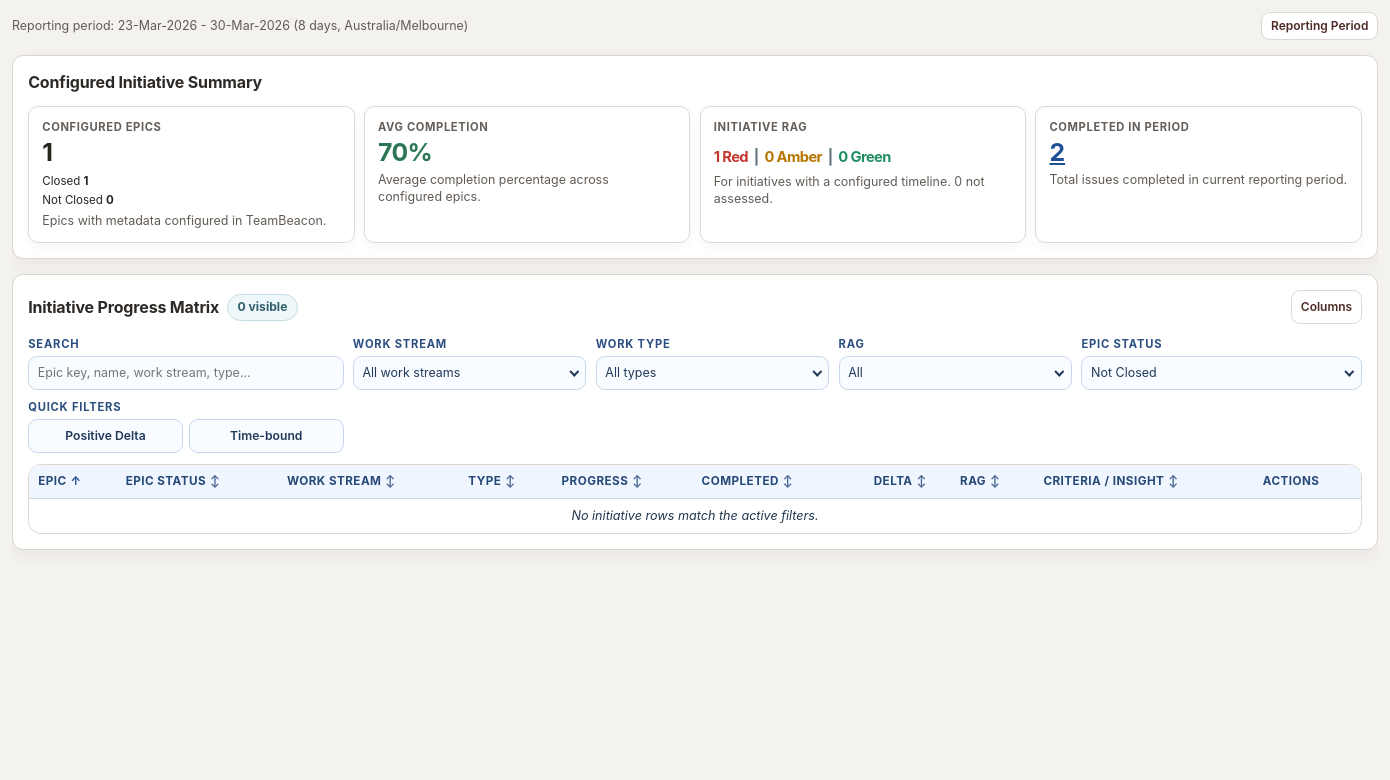
Test: InitiativesScreen › shows zero Not Closed without parentheses when every epic is closed
Expected: the text "CEG-101" is not shown
Click the dropdown named "Epic Status" at (1124, 372), box [1082, 356, 1362, 390]
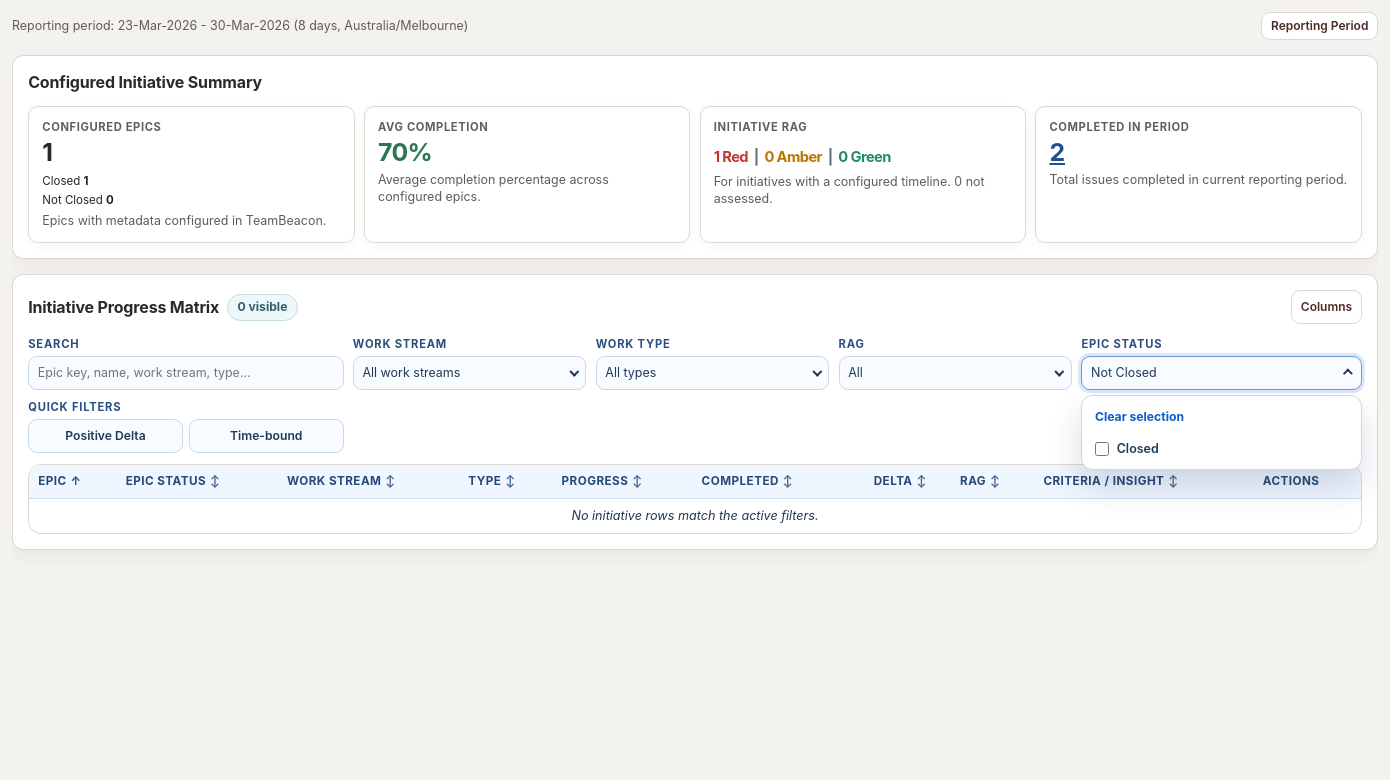
Click the button "Clear selection" at (1139, 416), box [1087, 400, 1356, 432]
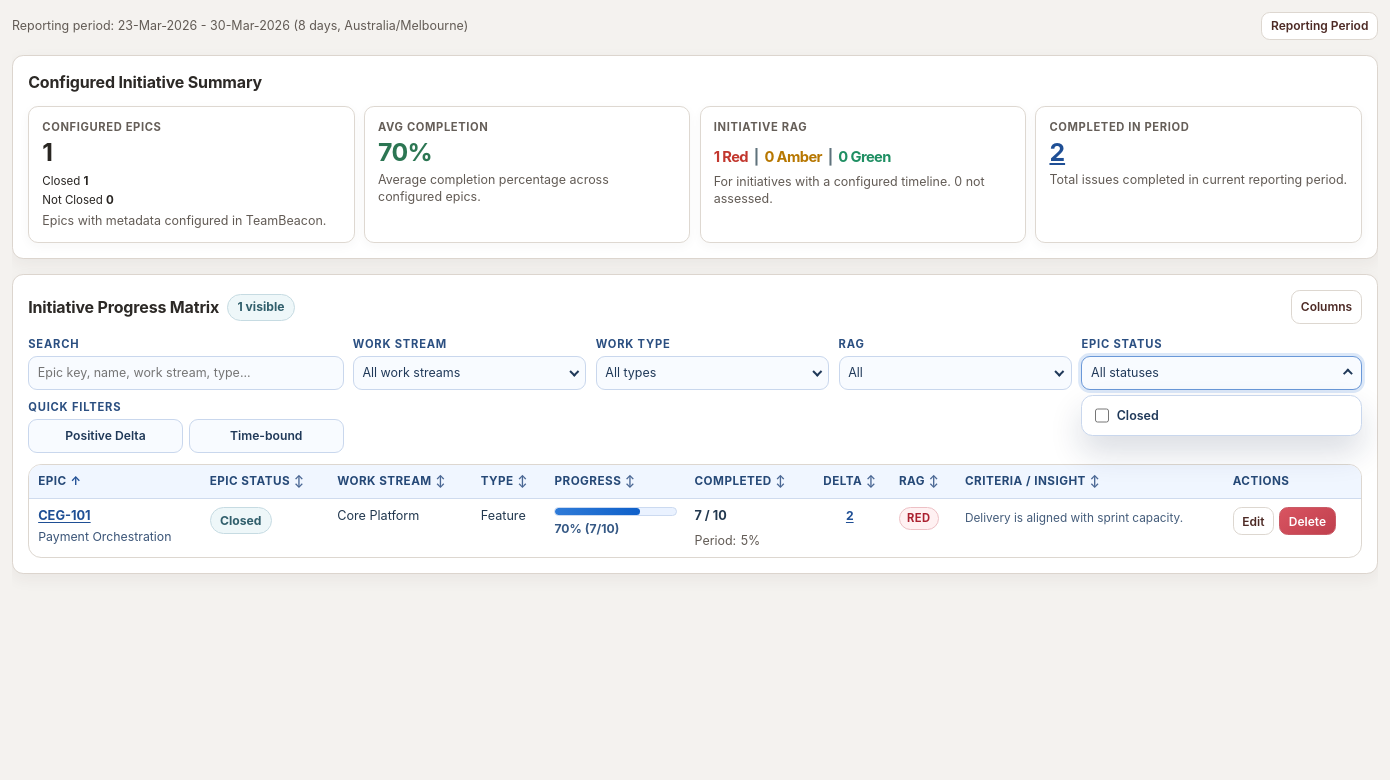
Result: the link "CEG-101" is shown at [38, 508, 91, 523]
